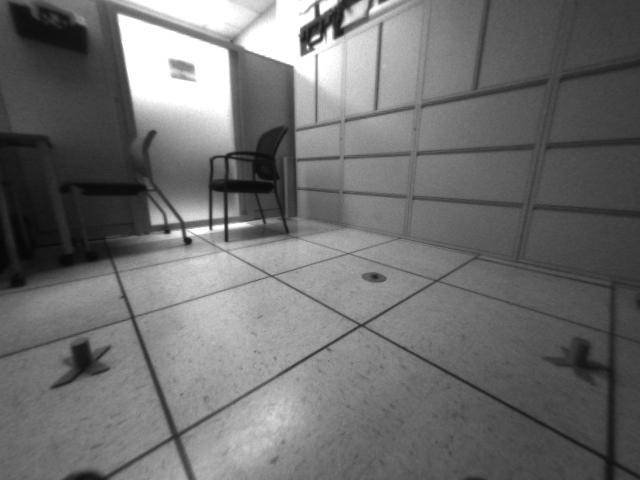X: (542, 337, 609, 384), (50, 339, 109, 387)
